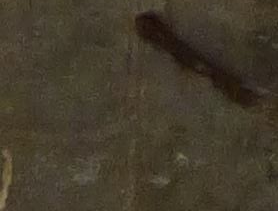Exposed reinforcement: (135, 12, 258, 106)
